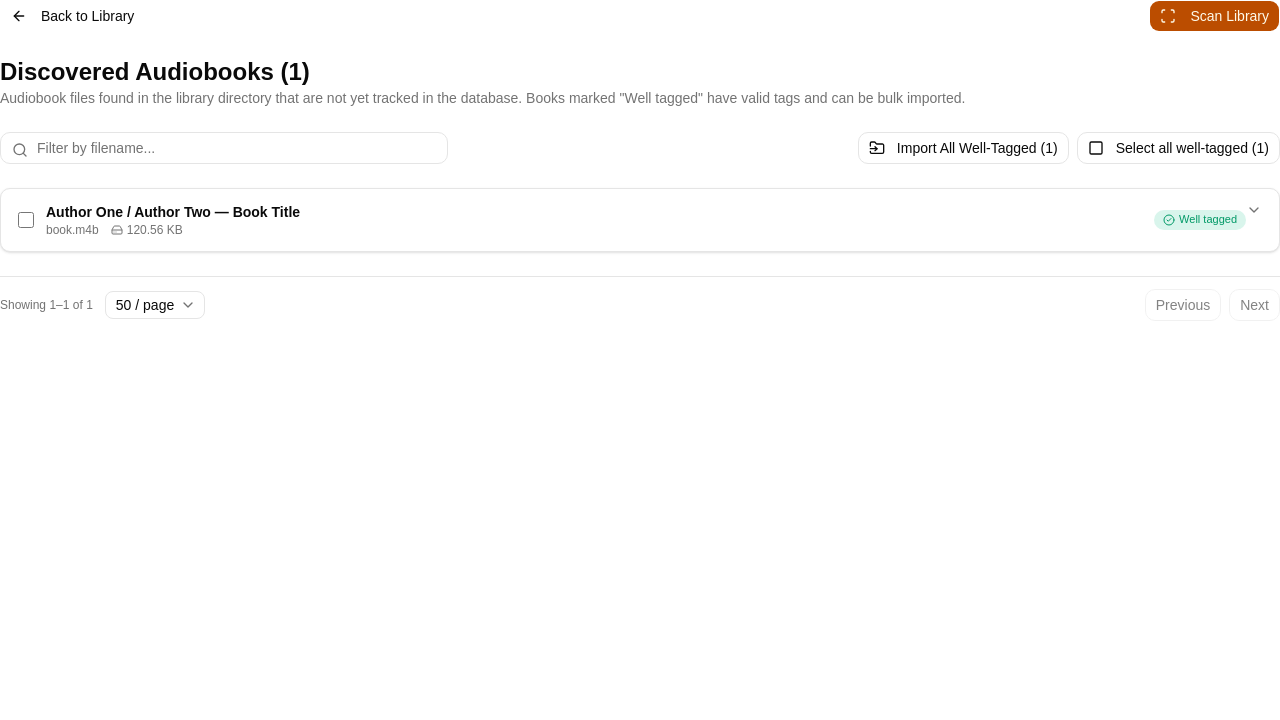
Test: DiscoveredAudiobooks › checks target path collision before organizing and displays DuplicateTargetDialog if existing
Click the text "Book Title": (173, 212) [46, 204, 300, 220]
(page scrolled)
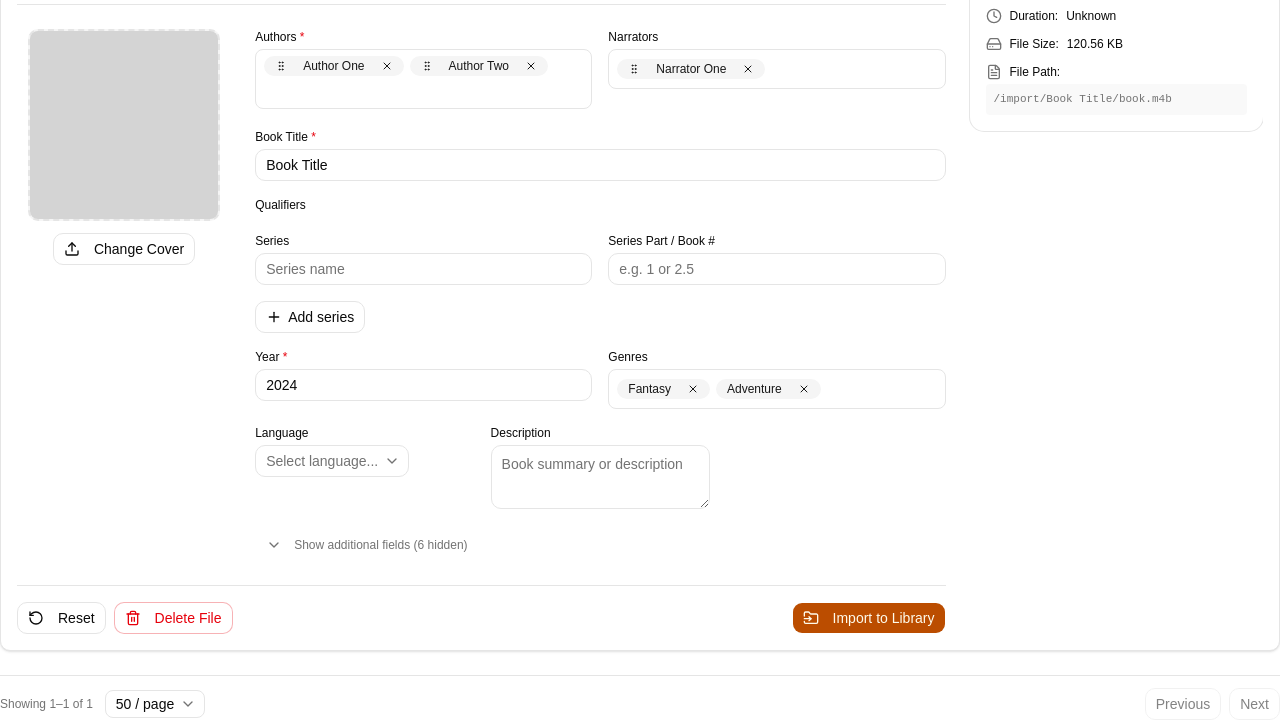
Click the button "Import to Library": (869, 618) [792, 602, 946, 634]
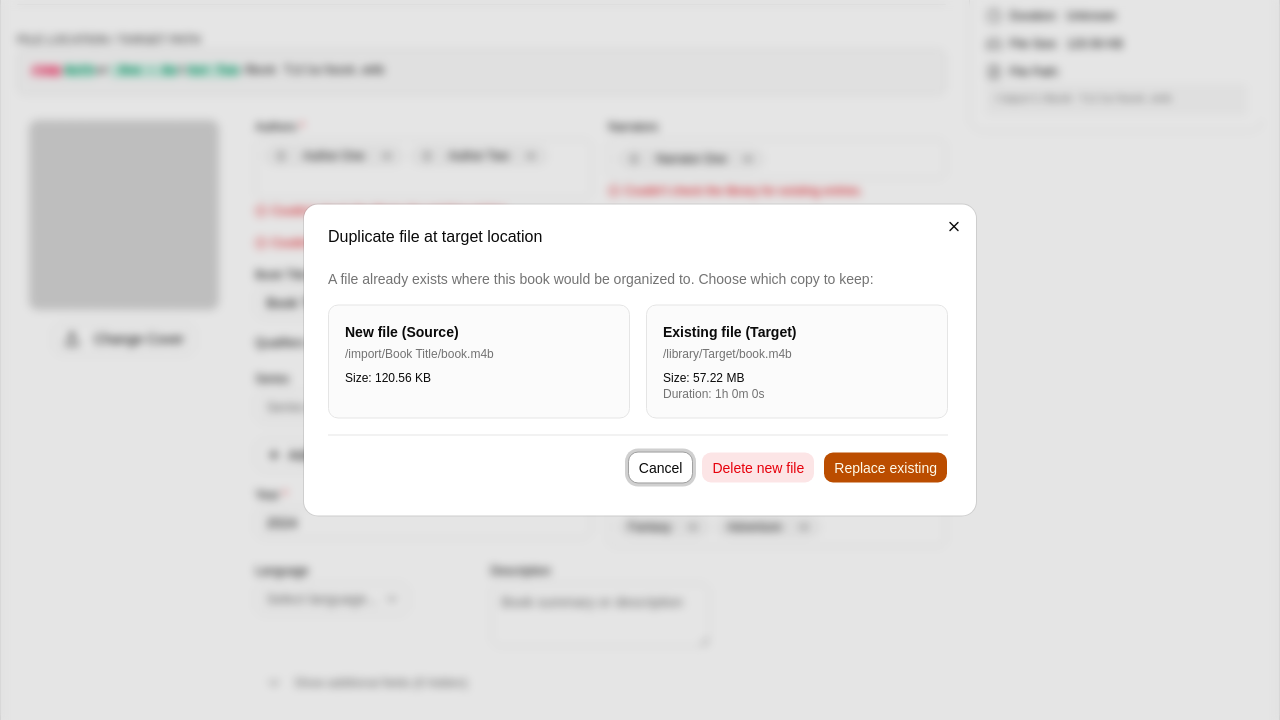
Result: the heading "Duplicate file at target location" is shown at [328, 228, 542, 244]
